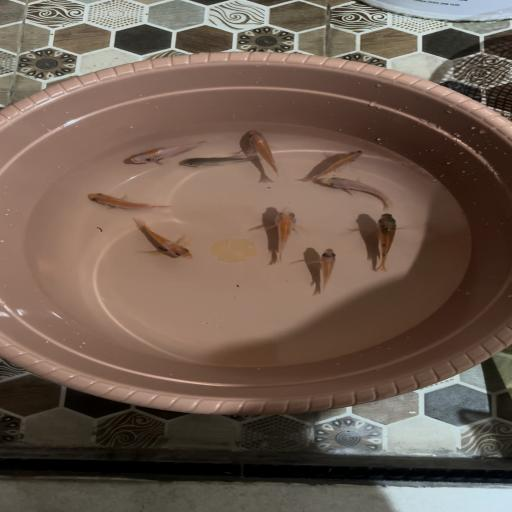nila: (118, 215, 199, 264), (118, 136, 207, 173), (236, 126, 296, 180), (175, 146, 272, 175), (318, 174, 400, 208), (368, 212, 414, 271), (300, 148, 370, 186), (262, 208, 302, 268), (77, 190, 175, 214), (309, 246, 344, 296)
